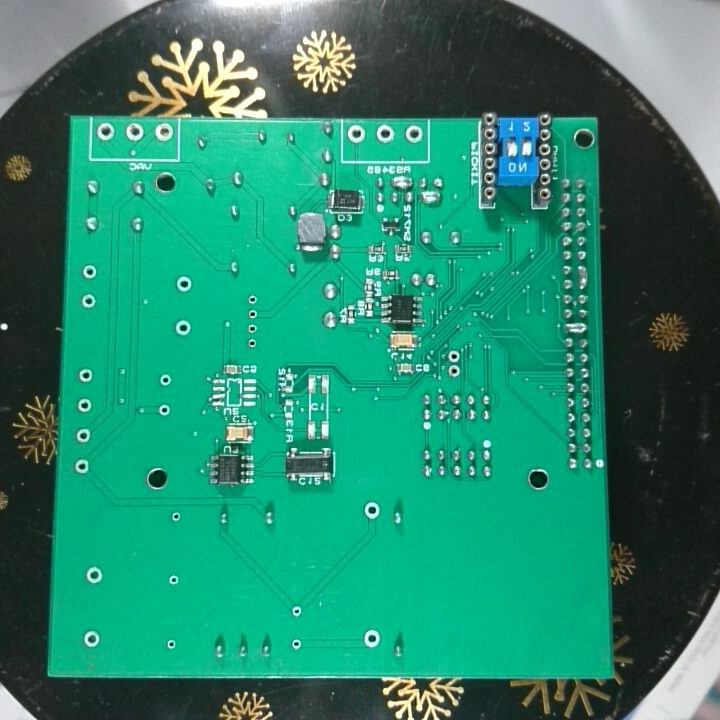F: (82, 562, 105, 588), (359, 625, 383, 649), (402, 122, 425, 145), (122, 120, 145, 143), (79, 627, 102, 650), (374, 123, 397, 145), (152, 122, 174, 145), (94, 120, 117, 142), (171, 316, 193, 339), (79, 260, 100, 284), (362, 497, 380, 523), (71, 456, 93, 477), (346, 123, 367, 143), (79, 290, 98, 312), (174, 272, 192, 295), (288, 600, 305, 623), (76, 364, 94, 385), (76, 394, 93, 416), (74, 425, 91, 445), (156, 370, 173, 390), (444, 346, 462, 364), (155, 401, 171, 420), (164, 634, 177, 655), (245, 305, 262, 321), (445, 363, 462, 379), (166, 571, 181, 589), (244, 335, 259, 352), (288, 635, 302, 653), (245, 291, 260, 306), (245, 321, 261, 335), (169, 509, 182, 526)
P: (574, 263, 591, 292), (390, 172, 414, 192), (417, 188, 442, 206), (561, 320, 589, 336)
